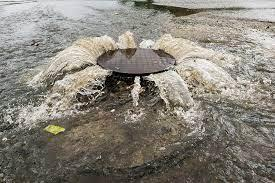drainage overflow-repair-: (12, 18, 261, 154)
